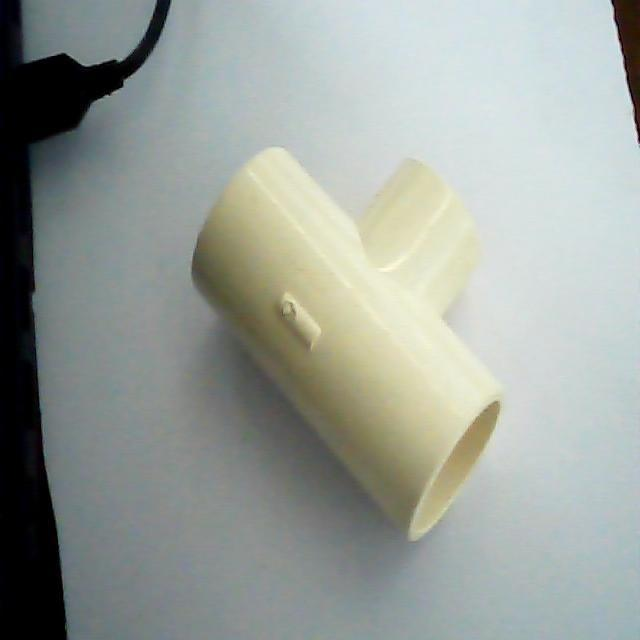T Joint: (189, 148, 504, 545)
